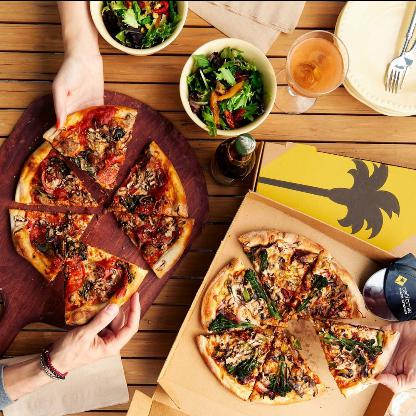pizza: (45, 104, 141, 192), (62, 236, 150, 330), (240, 228, 324, 314), (310, 318, 400, 398), (194, 319, 280, 399), (8, 206, 96, 280), (200, 258, 290, 330), (248, 325, 328, 405), (106, 140, 190, 214), (280, 249, 366, 319), (12, 142, 100, 206), (112, 211, 196, 277)
salad: (190, 48, 266, 128), (99, 1, 182, 48)
